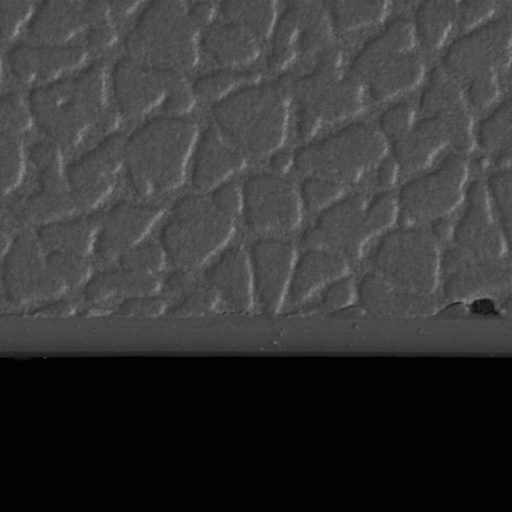bengque: (442, 292, 507, 325)
